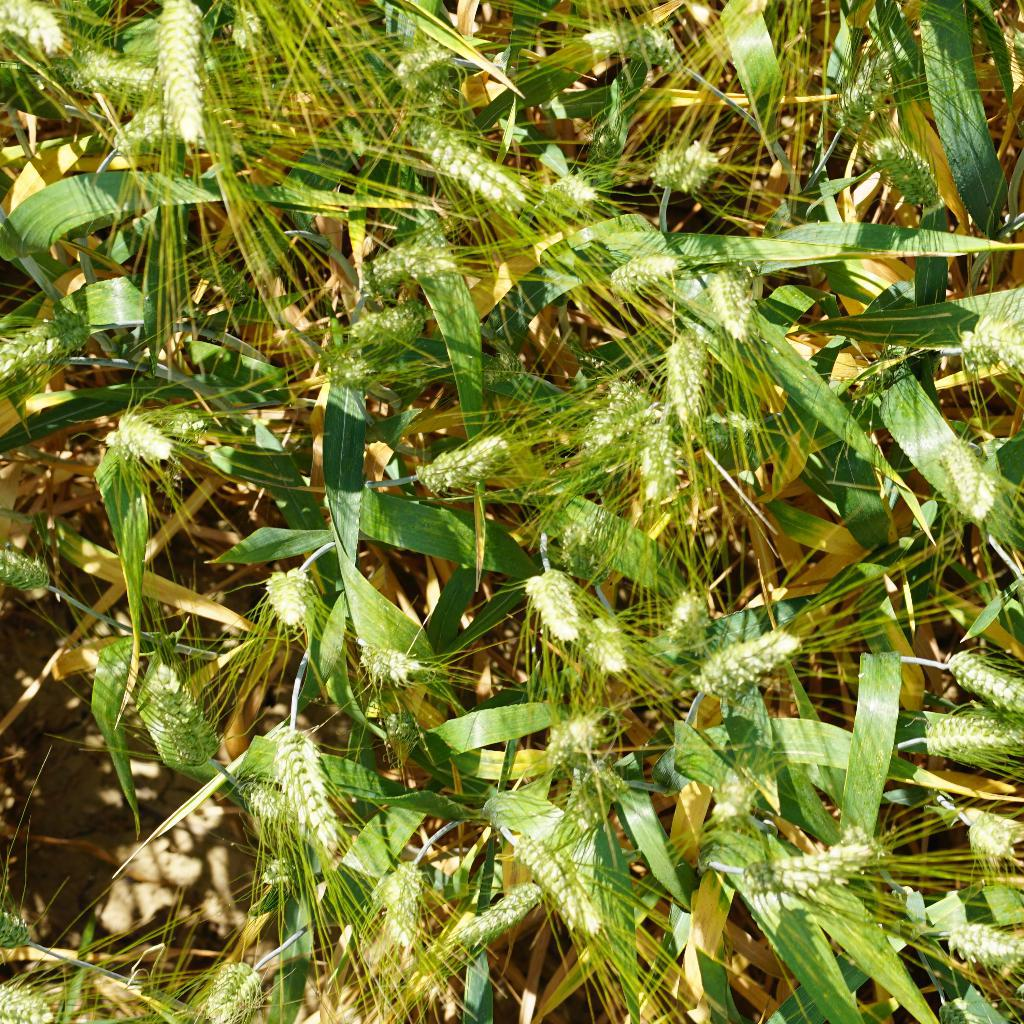0-0: (392, 111, 533, 212), (130, 642, 223, 781), (496, 822, 605, 929), (264, 713, 347, 851), (671, 626, 808, 706), (748, 830, 881, 911), (150, 0, 217, 144), (397, 421, 509, 504), (434, 878, 545, 955), (0, 300, 108, 376), (568, 0, 681, 71), (561, 358, 638, 459), (919, 698, 1024, 769), (367, 847, 430, 965), (931, 900, 1024, 979), (649, 328, 717, 436), (698, 254, 772, 352), (385, 19, 480, 94), (355, 232, 479, 287), (862, 129, 949, 205), (818, 49, 907, 123), (66, 33, 156, 101), (619, 413, 686, 503), (249, 557, 325, 635), (589, 240, 686, 301), (845, 325, 918, 406), (933, 440, 1001, 524), (216, 766, 307, 828), (524, 561, 585, 649), (200, 948, 269, 1024), (108, 404, 189, 468), (702, 747, 772, 821), (639, 137, 721, 200), (961, 303, 1024, 384), (945, 656, 1024, 716), (351, 634, 434, 691), (321, 344, 411, 395), (337, 301, 434, 348), (0, 0, 71, 62), (548, 763, 627, 815), (575, 606, 632, 677), (653, 582, 709, 654), (0, 549, 67, 608), (538, 703, 605, 762), (527, 175, 604, 221), (0, 977, 74, 1024), (967, 806, 1021, 863), (575, 109, 627, 157)
